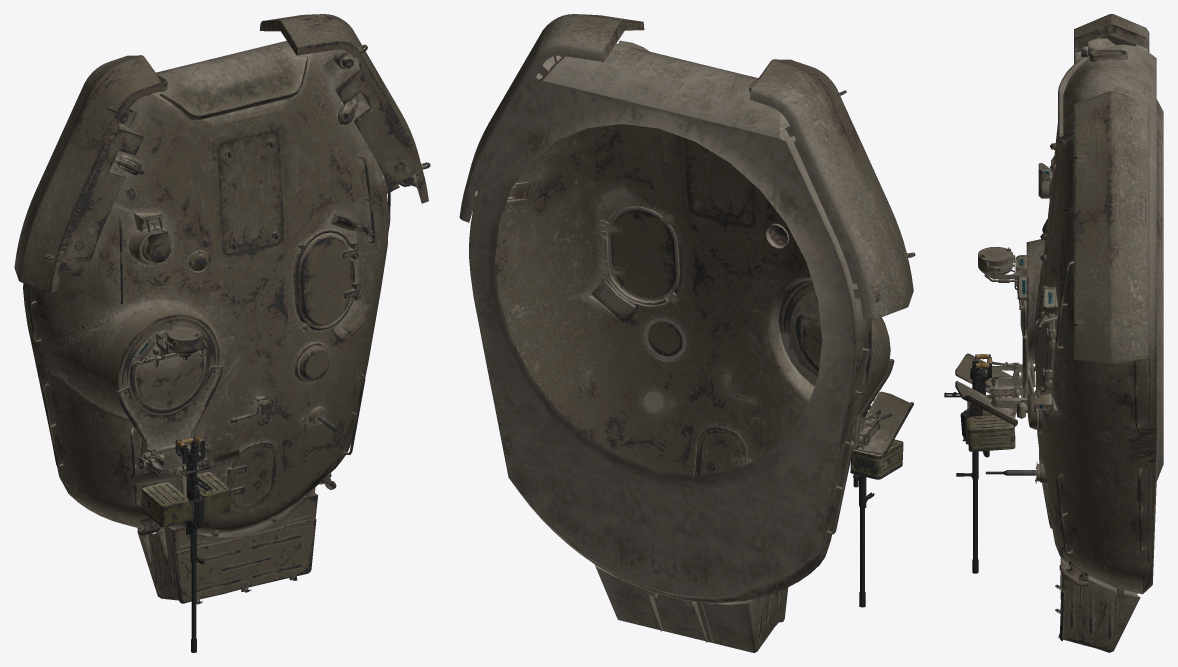
File: Turret_01.glb
The picture shows the model from 3 angles, left to right: view 1: azimuth 30°, elevation 25°; view 2: azimuth 150°, elevation 25°; view 3: azimuth 270°, elevation 25°; orthographic projection. The views are drawn at different scales.
Visible parts, largest first — view 1: set_0_group_0; view 2: set_0_group_0; view 3: set_0_group_0.
Part boxes in pixels (box(x1,y1,x2,y2)): set_0_group_0: box(14, 14, 430, 652); set_0_group_0: box(459, 14, 915, 652); set_0_group_0: box(944, 14, 1163, 652).
Bounding box in the file's own units: 3.17 × 4.12 × 1.46.
1 material, 1 textured.
